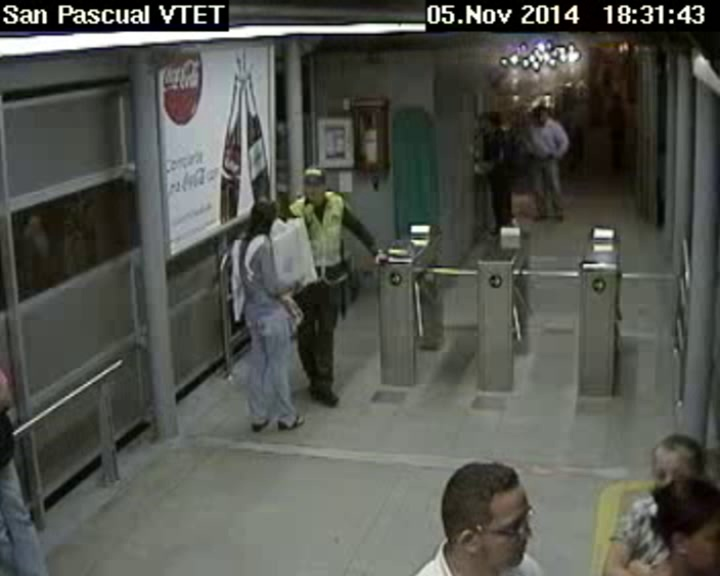person: (435, 451, 536, 567), (647, 467, 720, 576), (641, 426, 705, 498), (246, 199, 282, 239), (302, 164, 324, 206), (485, 114, 503, 129), (536, 105, 546, 124)
